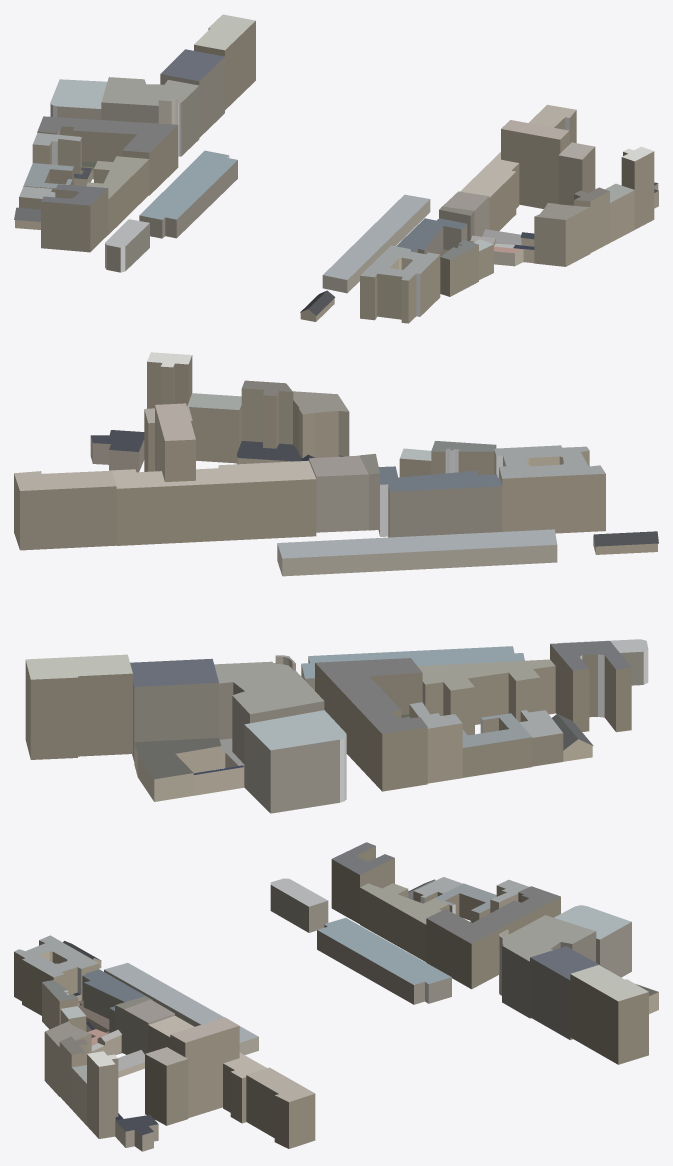
3 renders of one model, top to bottom at view 1: azimuth 30°, elevation 25°; view 2: azimuth 150°, elevation 25°; view 3: azimuth 270°, elevation 25°, orthographic. The views are drawn at different scales.
Parts seen in each view (by area): view 1: tuile; view 2: tuile; view 3: tuile.
Part boxes in pixels (<box>): tuile: <box>14,14,658,323</box>; tuile: <box>14,352,658,813</box>; tuile: <box>14,842,658,1151</box>.
Size of the model in its own units: 271 by 39.56 by 280.
